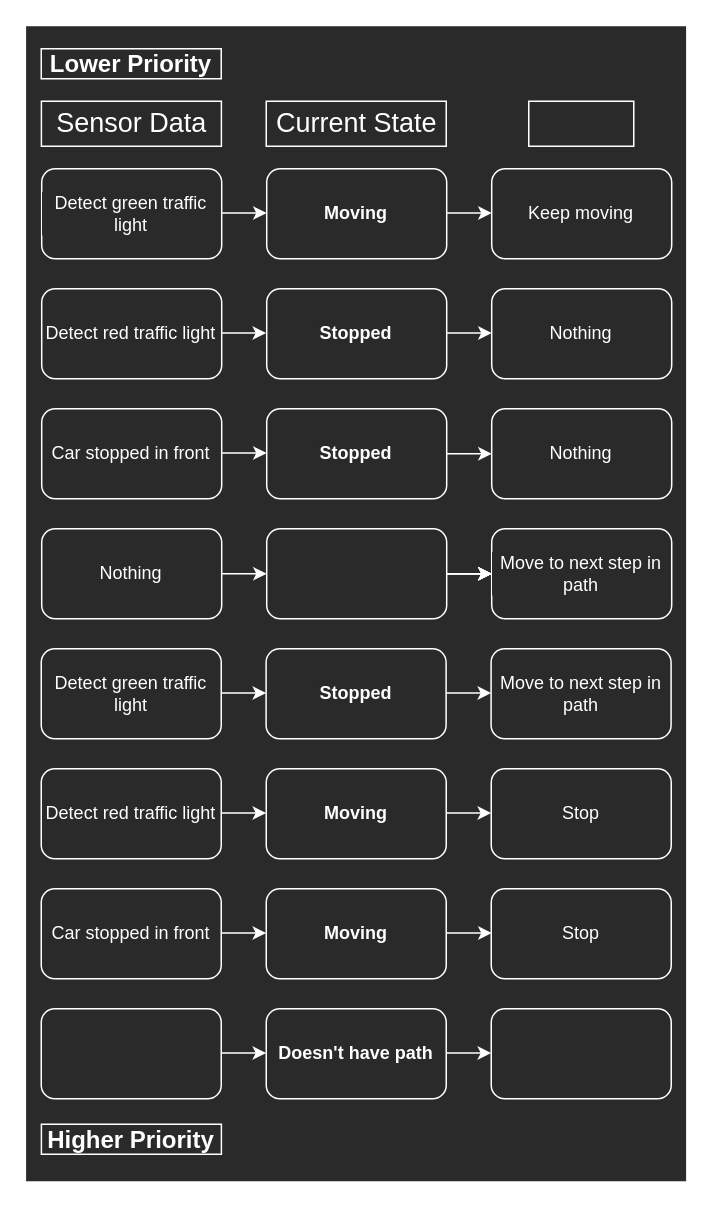
This 711x1206 diagram has some shape labels left out. The box of each missing label's shape, as (x1, y1, x2, y2) in pixels:
Action: (527, 100, 634, 146)
Anything: (40, 1007, 221, 1099)
Calculate path: (490, 1007, 671, 1099)
Has path: (265, 527, 447, 619)
